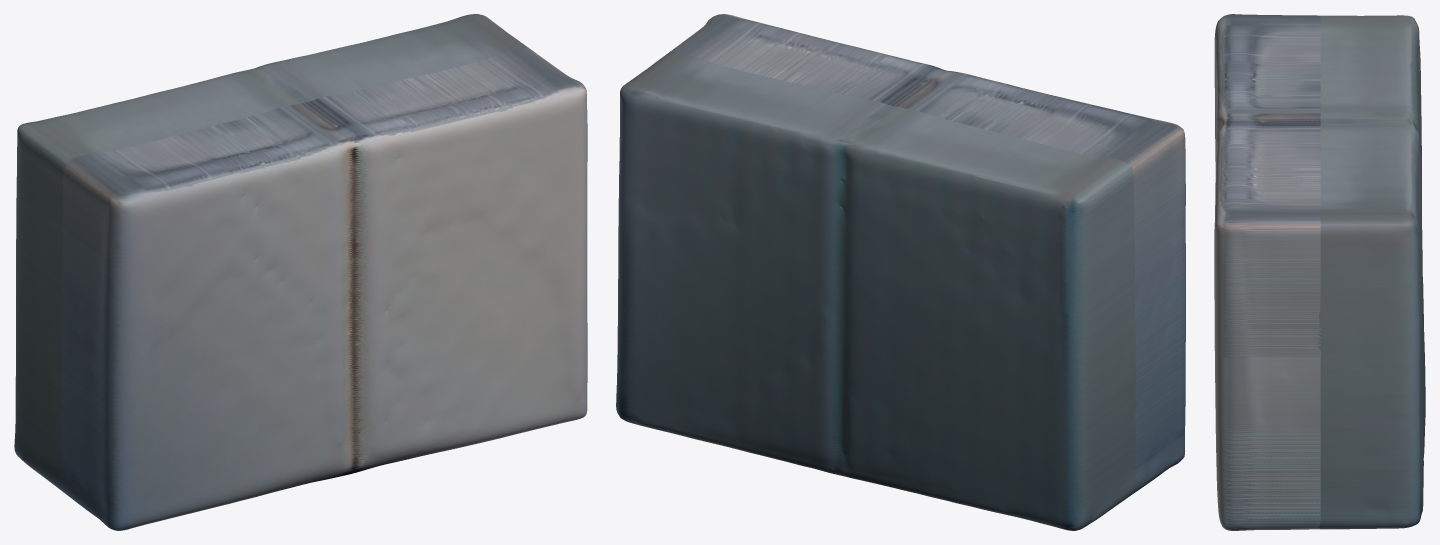
File: kfl-2263.glb
The picture shows the model from 3 angles, left to right: view 1: azimuth 30°, elevation 25°; view 2: azimuth 150°, elevation 25°; view 3: azimuth 270°, elevation 25°; orthographic projection. The views are drawn at different scales.
Parts seen in each view (by area): view 1: geometry_0; view 2: geometry_0; view 3: geometry_0.
Part boxes in pixels (box(x1,y1,x2,y2)): geometry_0: box(14, 14, 587, 530); geometry_0: box(616, 14, 1185, 530); geometry_0: box(1214, 14, 1425, 530).
Size of the model in its own units: 0.9972 by 0.6739 by 0.4135.
1 material, 1 textured.
